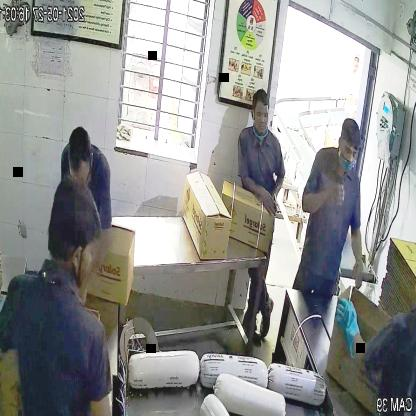no_goggles: (336, 140, 361, 162), (250, 106, 273, 127)
